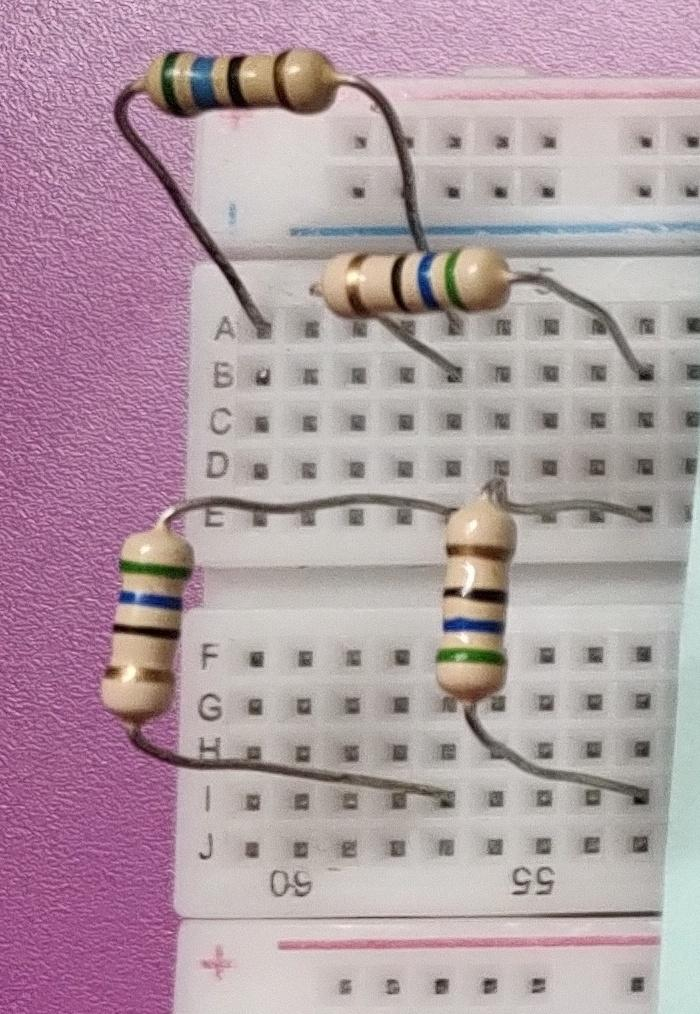resistor: (85, 515, 211, 741), (409, 489, 522, 708), (301, 233, 530, 336), (129, 41, 350, 127)
